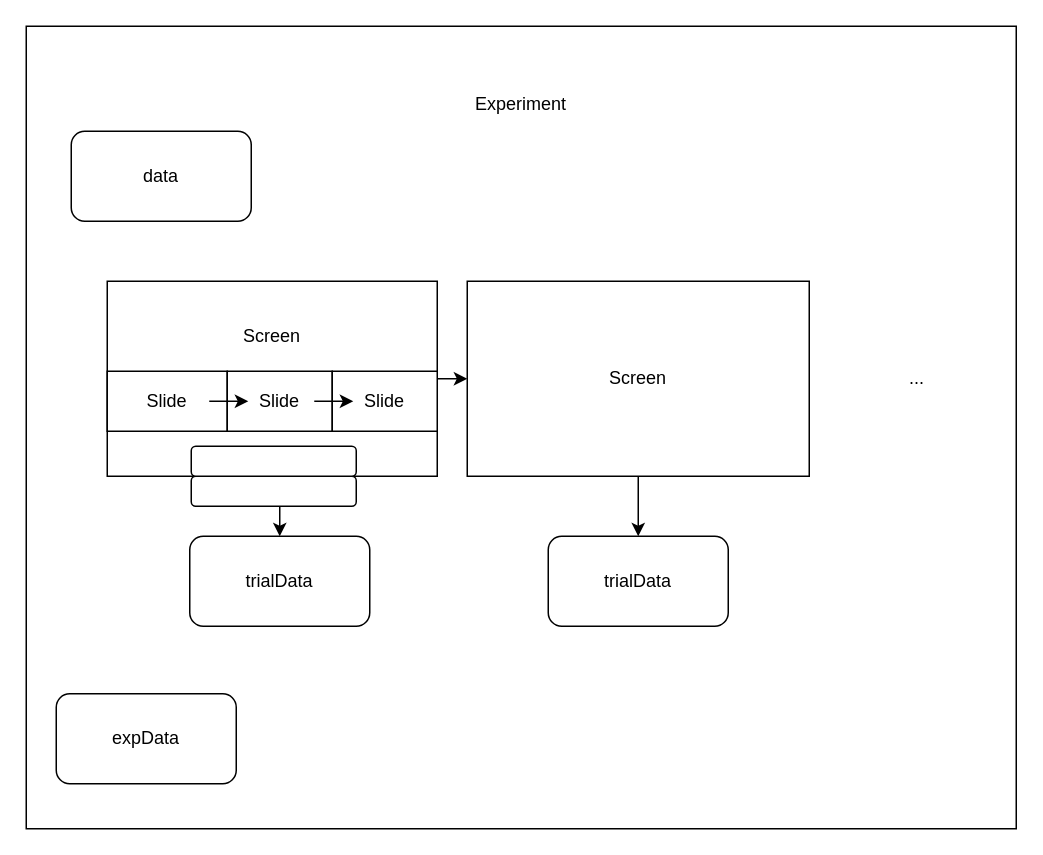
Image size: 1043x855. Some labels were removed from this diagram. Here are the shapes that lost their labels. From the top down, the centre of each, then its label:
At (x=273, y=460): "validations".
At (x=273, y=490): "measurements".
